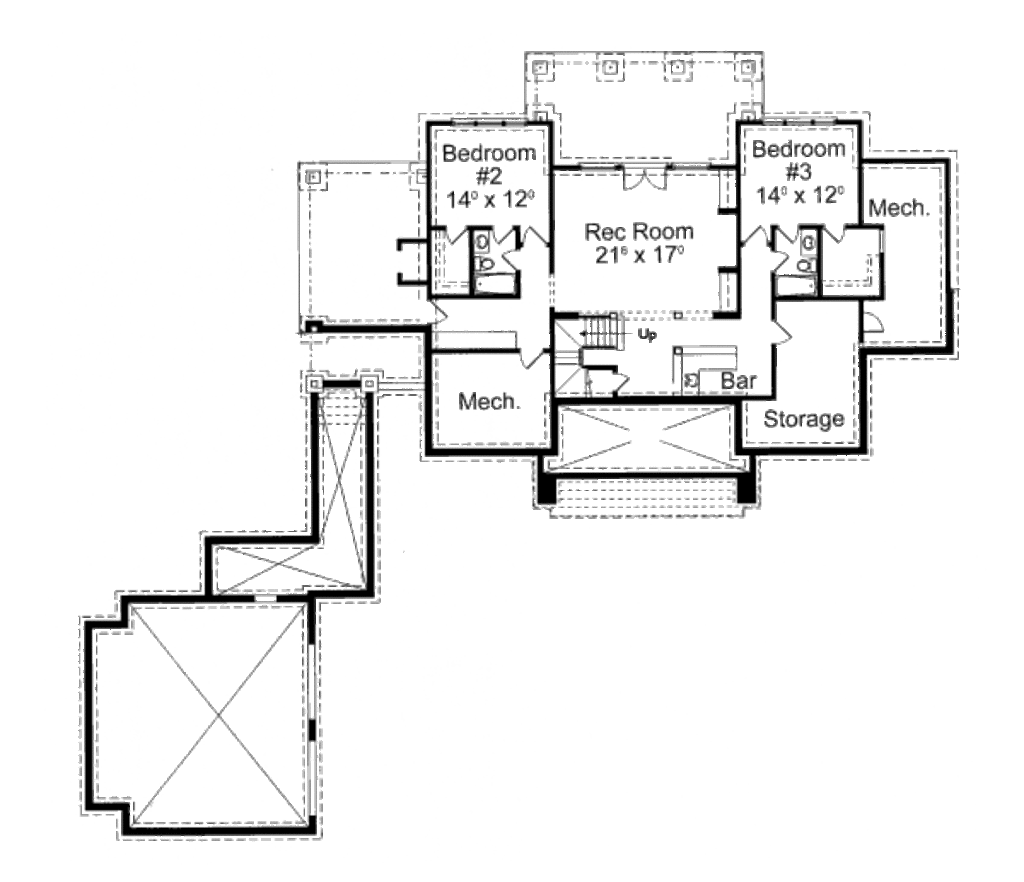door: (614, 159, 673, 192), (510, 336, 552, 368), (420, 291, 452, 327), (861, 306, 891, 342), (496, 244, 524, 276), (743, 221, 777, 247), (437, 222, 463, 253), (487, 220, 515, 248), (763, 318, 789, 348), (520, 222, 547, 250), (824, 220, 851, 246), (777, 222, 802, 247), (770, 246, 791, 273)
large_sink: (467, 253, 495, 277), (799, 254, 814, 277)
stairs: (557, 310, 625, 395)
